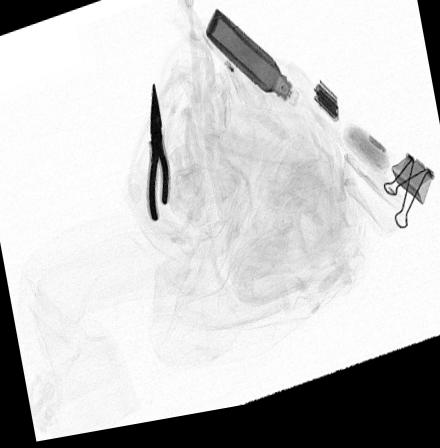Pliers: (146, 87, 170, 227)
